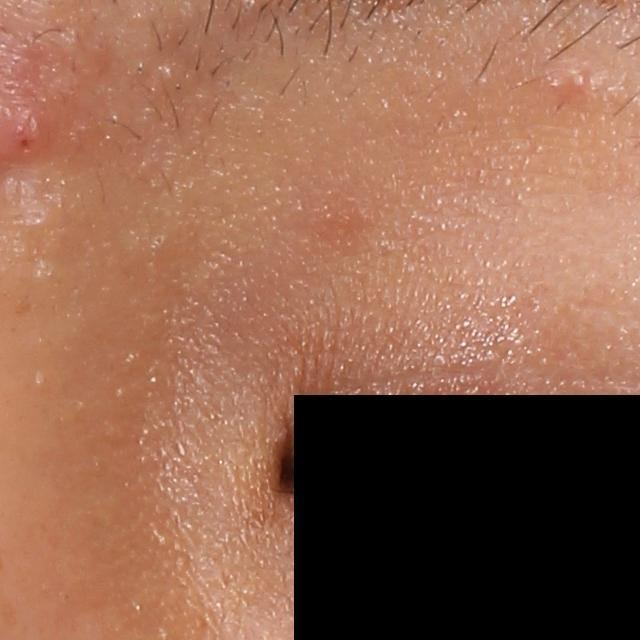papule: (565, 71, 591, 99)
